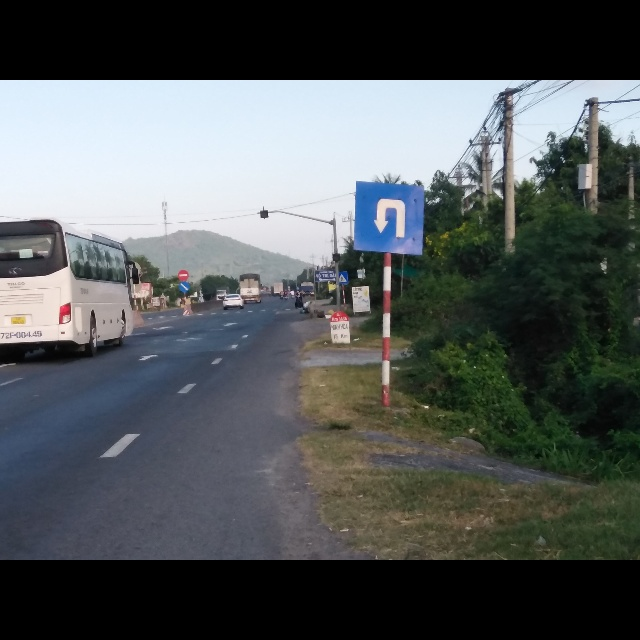Khu vực quay đầu xe: (351, 182, 425, 256)
